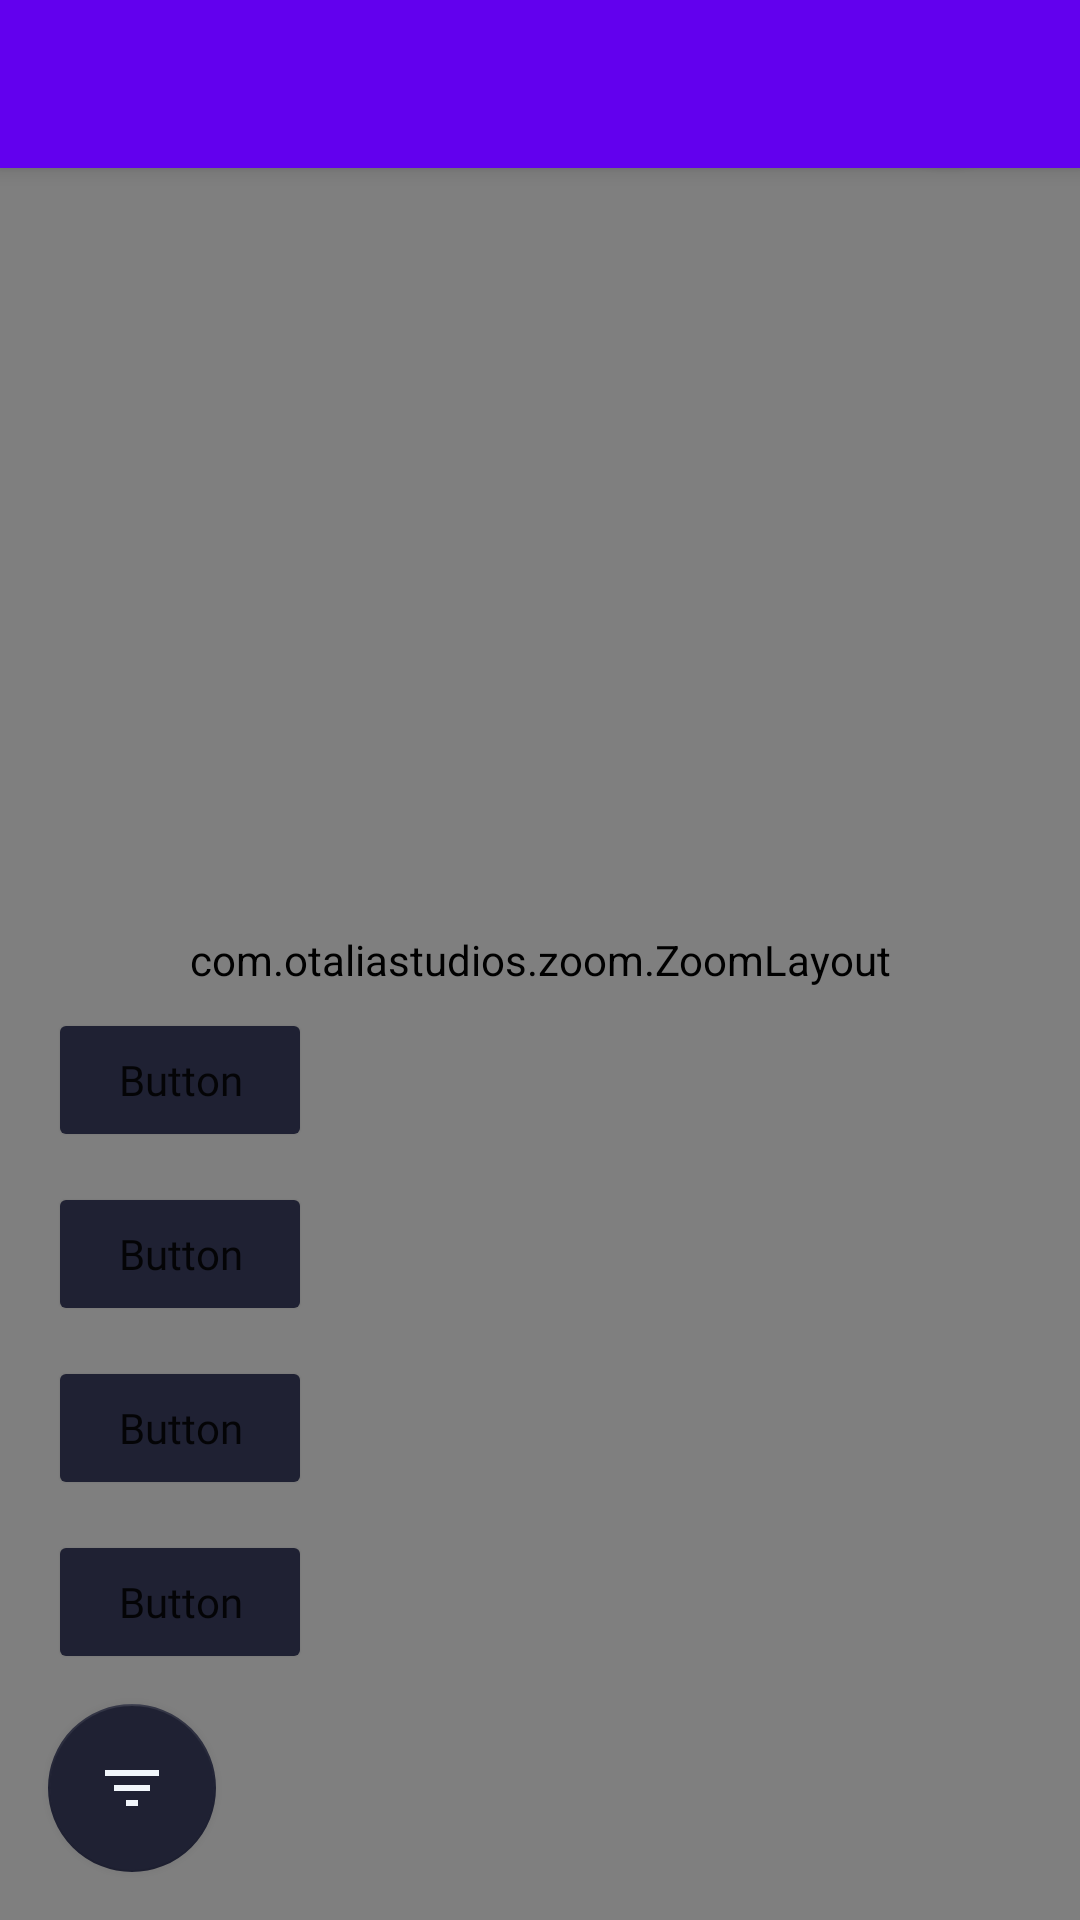

Named icons in this screenshot (1080px x 1920px) and their centers, [x,y]:
selection filter: [132,1788]
